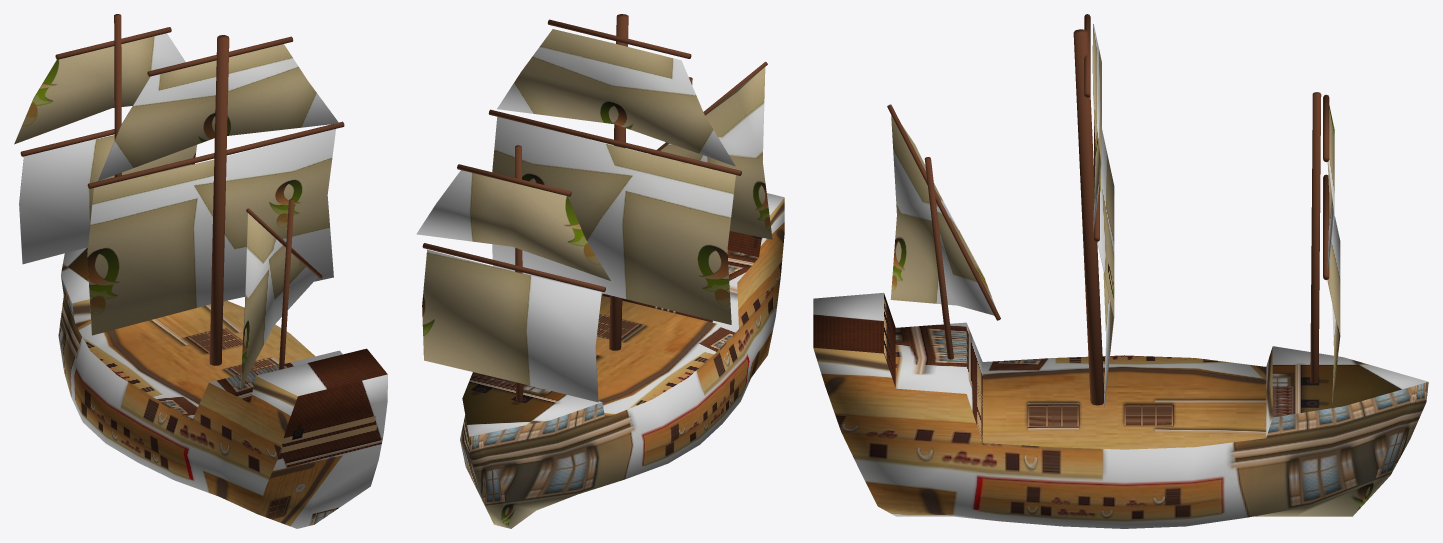
Rendered from jarmada-admiral.gltf.
3 views of the same model, side by side, from view 1: azimuth 30°, elevation 25°; view 2: azimuth 150°, elevation 25°; view 3: azimuth 270°, elevation 25° (orthographic). The views are drawn at different scales.
Size of the model in its own units: 1.06 by 1.72 by 1.99.
10 materials, 2 textured.
